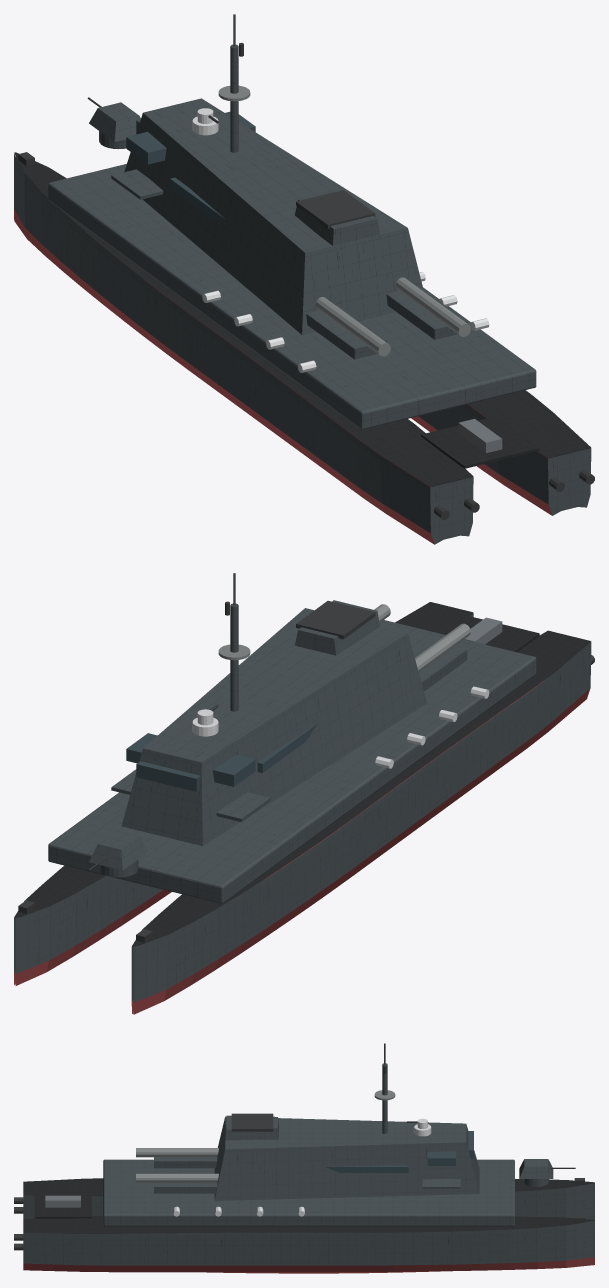
Rendered from type_tuochiang.glb.
3 renders of one model, top to bottom at view 1: azimuth 30°, elevation 25°; view 2: azimuth 150°, elevation 25°; view 3: azimuth 270°, elevation 25°, orthographic. The views are drawn at different scales.
Parts seen in each view (by area): view 1: tc_hull_-1; view 2: tc_hull_-1; view 3: tc_hull_-1.
Boxes of the visible parts, left/top/right/bottom form: tc_hull_-1: left=14, top=14, right=594, bottom=544; tc_hull_-1: left=14, top=573, right=594, bottom=1014; tc_hull_-1: left=14, top=1043, right=594, bottom=1273.
Size of the model in its own units: 14.9 by 24.2 by 61.4.
Materials: 3 (3 with a texture image).
